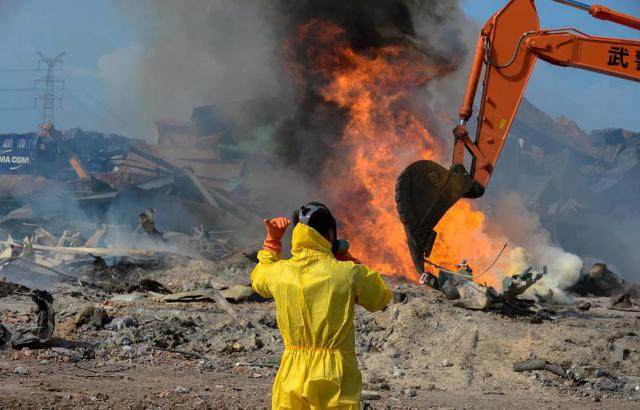fire: (339, 108, 397, 266), (320, 48, 408, 107), (436, 199, 488, 269), (399, 113, 433, 161)
